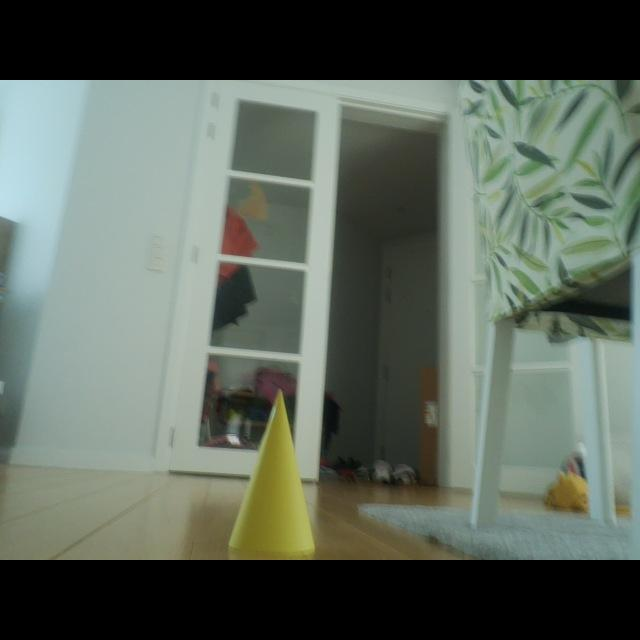bolya: (229, 392, 314, 559)
